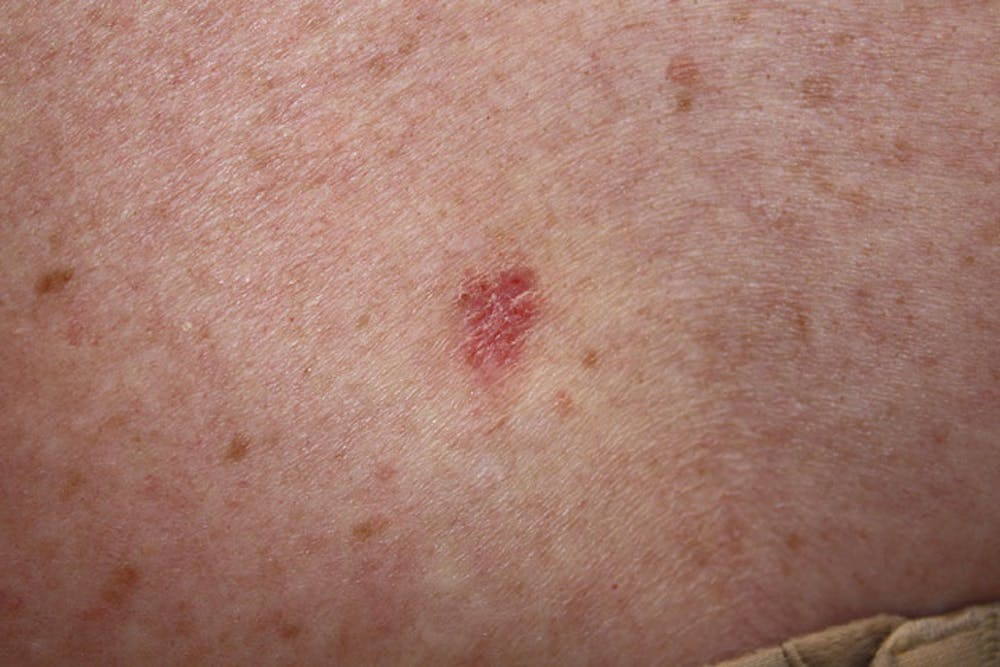melanoma: (330, 168, 704, 424)
